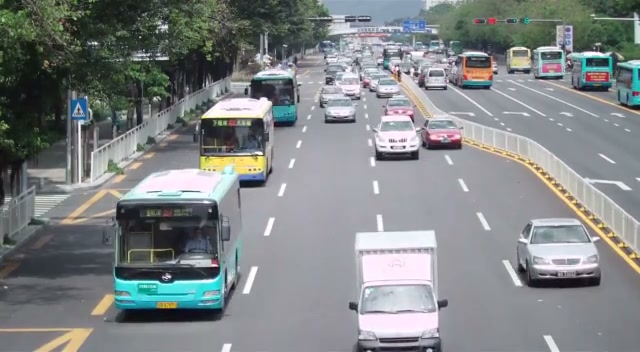bus: (106, 166, 244, 312), (197, 96, 275, 186), (249, 68, 300, 126), (569, 51, 614, 90), (451, 51, 495, 88), (615, 59, 640, 108), (532, 46, 566, 80), (506, 47, 532, 73)
car: (515, 217, 602, 287), (373, 114, 421, 160), (421, 117, 464, 150), (324, 97, 356, 123), (383, 95, 416, 120), (319, 86, 347, 108), (374, 77, 401, 98), (424, 68, 448, 91)
pedestrian: (184, 226, 211, 254)
truck: (349, 230, 448, 352)
